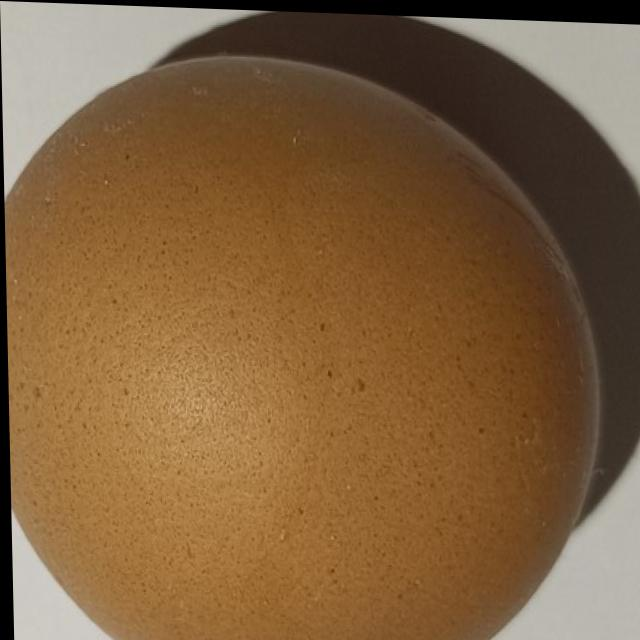unfresh: (1, 42, 602, 640)
